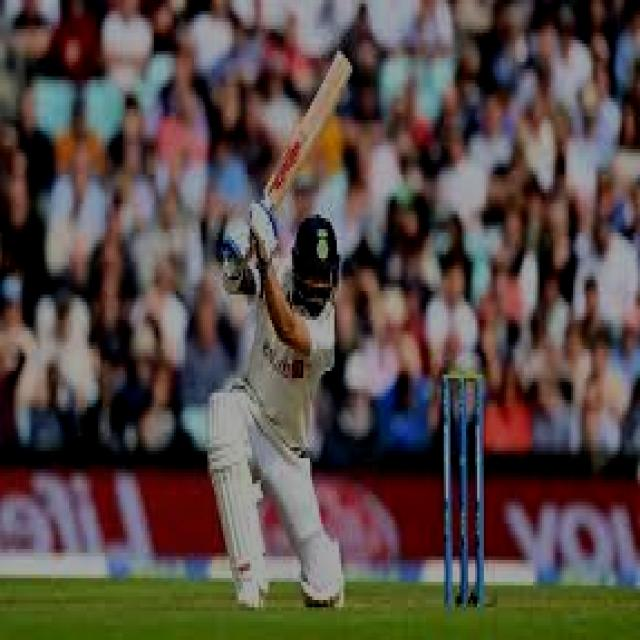bat: (255, 51, 352, 214)
